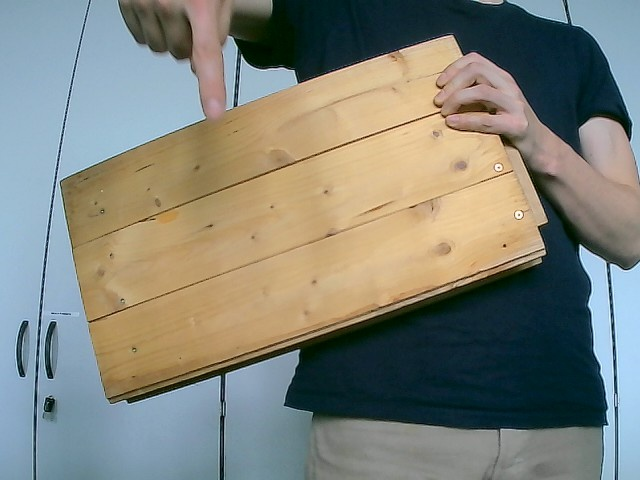down: (116, 0, 235, 120)
no_gesture: (432, 50, 538, 147)
